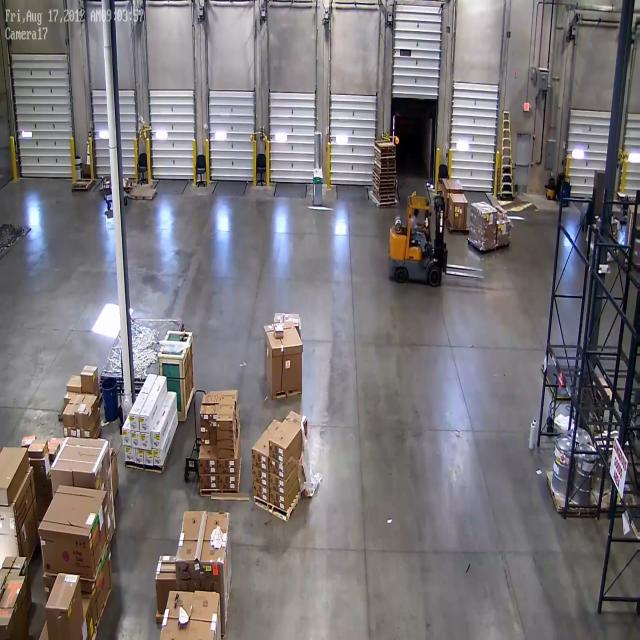human: (412, 209, 427, 258)
product 1: (37, 478, 118, 578), (174, 510, 247, 620), (51, 428, 120, 539), (154, 586, 225, 640), (263, 326, 303, 394), (14, 465, 40, 564), (78, 550, 124, 600), (106, 447, 123, 497), (448, 191, 468, 231), (469, 201, 496, 225), (273, 311, 304, 331), (497, 222, 514, 244), (480, 226, 496, 248), (442, 177, 464, 192)
product 2: (273, 322, 284, 339)
product 3: (135, 448, 146, 464), (150, 430, 160, 447), (143, 449, 153, 466), (125, 446, 135, 461), (130, 415, 139, 431), (122, 428, 131, 444), (140, 414, 148, 430), (132, 432, 140, 448), (142, 434, 150, 448), (156, 449, 162, 465)
product 4: (32, 464, 59, 536), (80, 364, 102, 396), (31, 454, 50, 478), (267, 438, 285, 462), (269, 471, 286, 496), (268, 458, 287, 480), (79, 392, 90, 429), (251, 482, 269, 504), (270, 488, 286, 512), (62, 400, 78, 424), (198, 458, 218, 476), (200, 405, 236, 415), (251, 448, 267, 470), (252, 468, 271, 484), (199, 475, 218, 490), (215, 440, 236, 453), (219, 475, 237, 490), (218, 459, 237, 473), (66, 372, 81, 388), (494, 204, 511, 218), (21, 434, 38, 448), (202, 394, 225, 404), (51, 439, 60, 463), (216, 447, 235, 458), (216, 430, 235, 441), (64, 389, 78, 403), (217, 420, 235, 430), (62, 427, 76, 438), (78, 428, 90, 439), (200, 415, 210, 426), (199, 437, 211, 446), (220, 396, 235, 403), (207, 420, 217, 430), (44, 438, 48, 459), (200, 426, 209, 434), (210, 413, 218, 420)
product 5: (46, 569, 85, 640), (0, 445, 28, 504), (154, 554, 183, 605), (0, 581, 27, 629), (1, 553, 27, 581), (0, 606, 17, 640)
